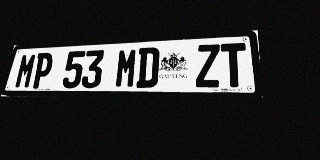3: (80, 50, 105, 88)
5: (61, 51, 86, 88)
D: (136, 47, 160, 88)
M: (114, 48, 138, 88), (14, 53, 38, 89)
P: (30, 52, 55, 88)
T: (221, 43, 248, 87)
Z: (196, 44, 221, 87)
